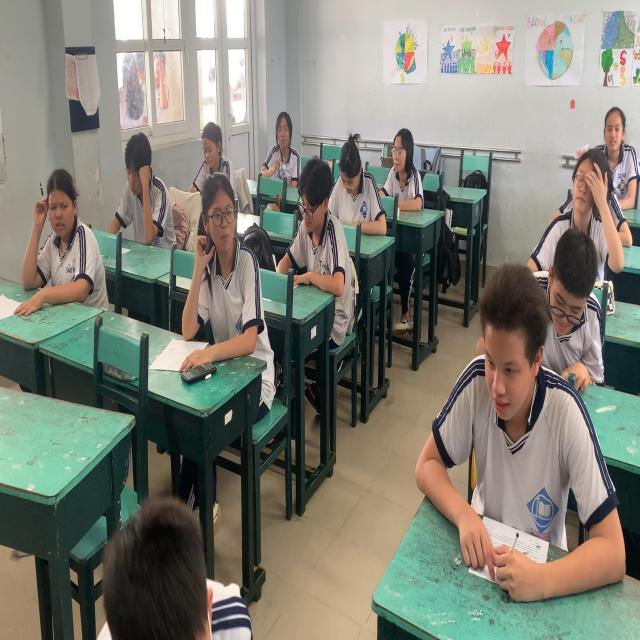cheating: (188, 172, 264, 353), (26, 162, 101, 306)
not_cheating: (448, 264, 562, 564), (531, 225, 609, 392), (294, 155, 342, 287), (329, 128, 383, 244), (110, 132, 166, 238), (377, 120, 430, 216), (599, 99, 640, 221), (560, 149, 607, 238), (190, 116, 237, 188), (259, 103, 303, 175)
